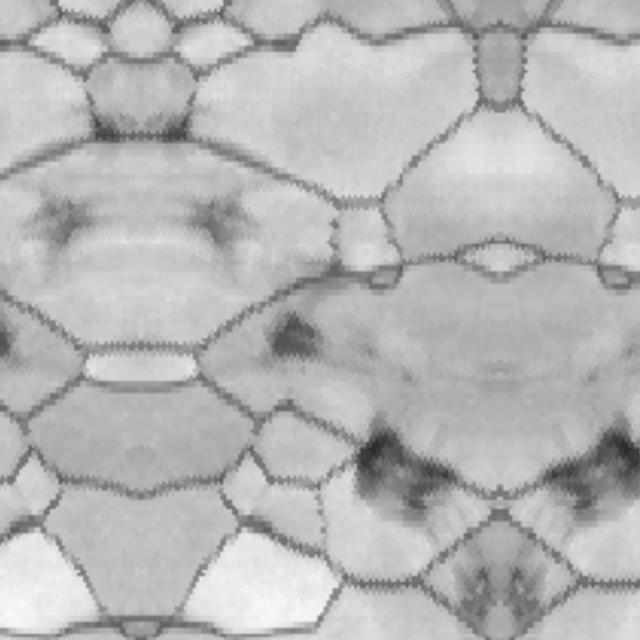good_void: (348, 403, 475, 537), (524, 403, 640, 537), (254, 301, 341, 378), (442, 548, 500, 640), (188, 188, 264, 258), (16, 188, 92, 258), (500, 548, 557, 640), (157, 106, 200, 154), (80, 106, 123, 154), (0, 306, 26, 370)
